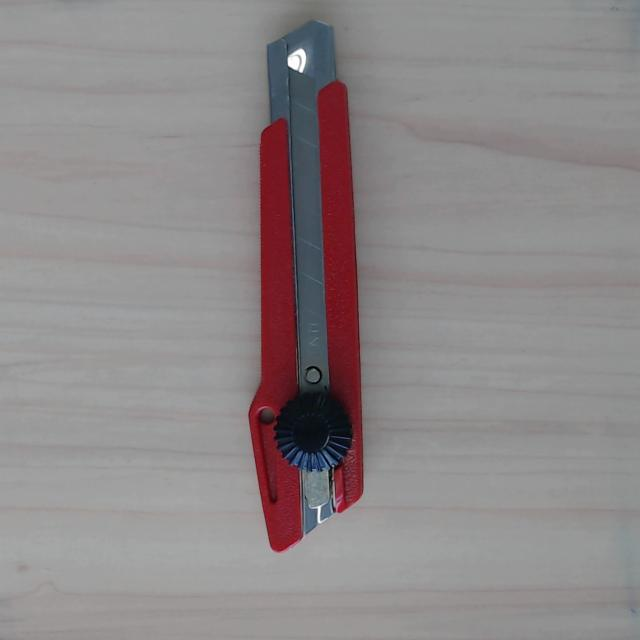Cutter-Besar: (239, 20, 364, 552)
